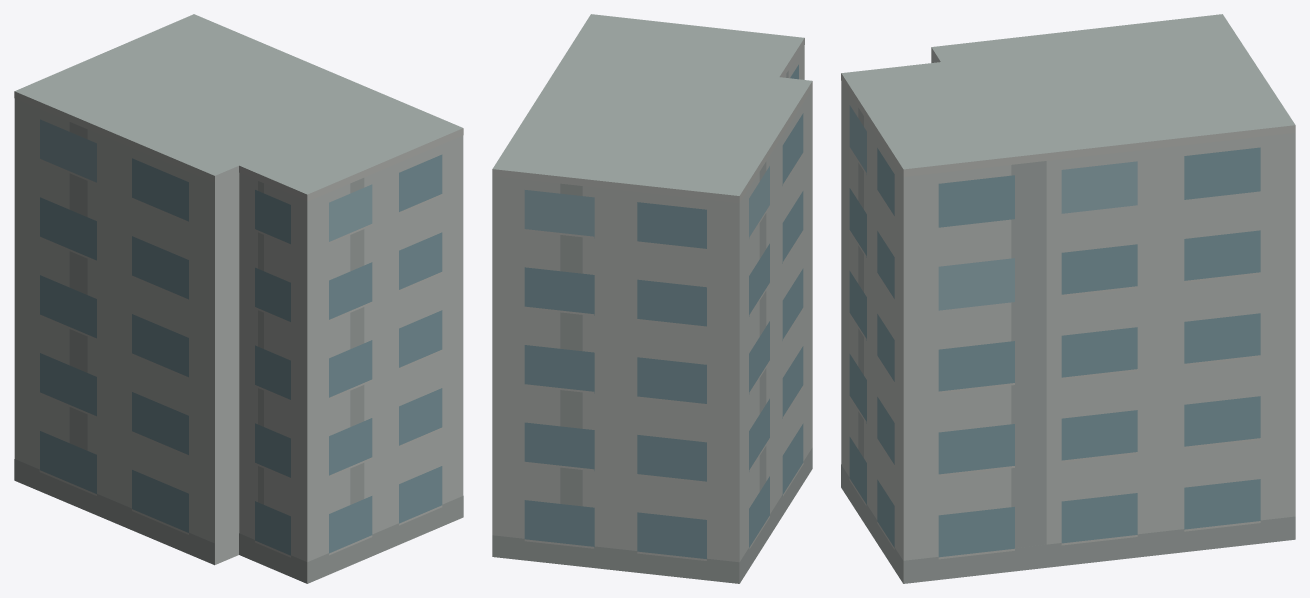
Rendered from survey-upis-32983547.glb.
3 views of the same model, side by side, from view 1: azimuth 30°, elevation 25°; view 2: azimuth 150°, elevation 25°; view 3: azimuth 270°, elevation 25° (orthographic). The views are drawn at different scales.
Visible parts, largest first — view 1: survey-upis-32983547.tmp; view 2: survey-upis-32983547.tmp; view 3: survey-upis-32983547.tmp.
Boxes of the visible parts, x1,y1,x2,y2 form: survey-upis-32983547.tmp: [14, 14, 463, 583]; survey-upis-32983547.tmp: [492, 14, 812, 583]; survey-upis-32983547.tmp: [841, 14, 1295, 583].
Size of the model in its own units: 10.62 by 13.2 by 13.12.
